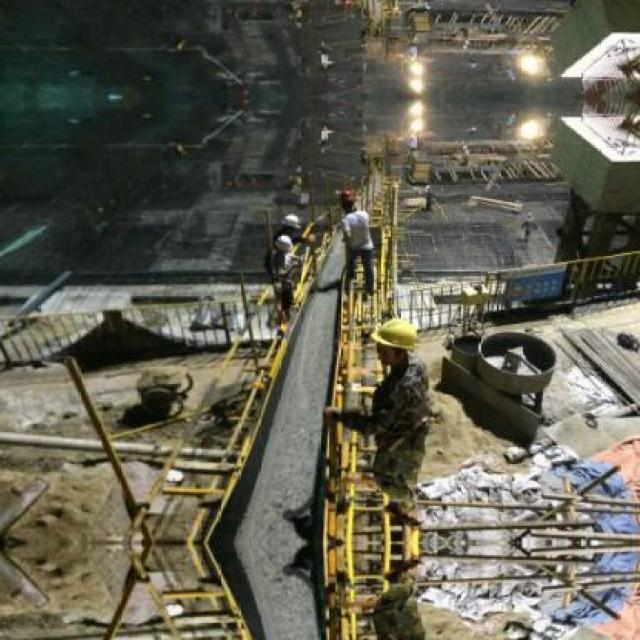hat: (369, 305, 423, 361), (334, 182, 360, 212), (272, 231, 297, 259), (279, 210, 305, 236)
